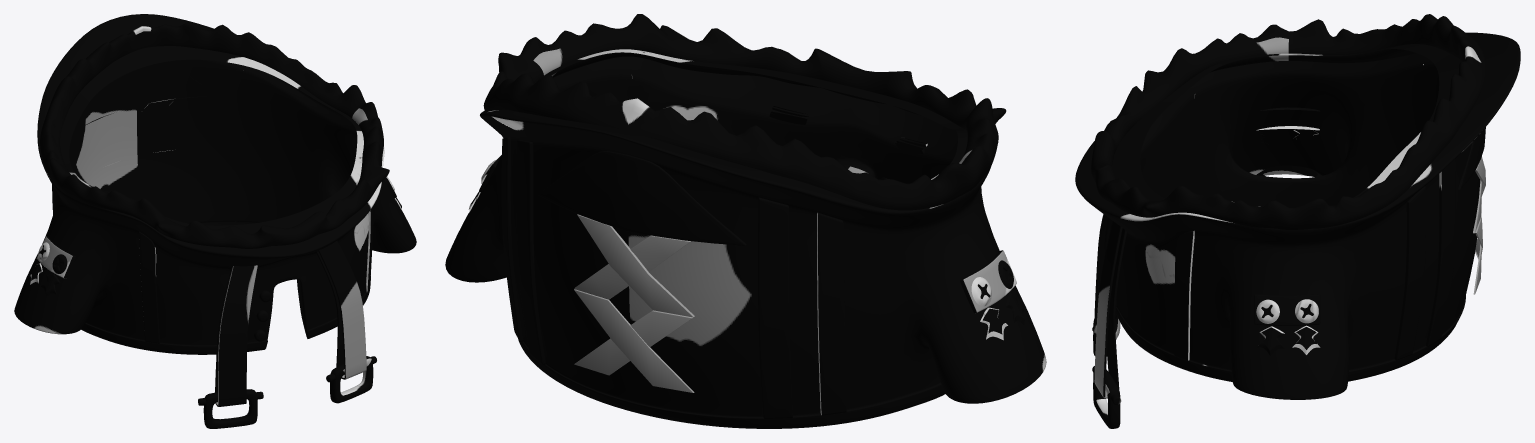
The model's file is Ropa_bangboo.obj.
3 renders of one model, left to right at view 1: azimuth 30°, elevation 25°; view 2: azimuth 150°, elevation 25°; view 3: azimuth 270°, elevation 25°, orthographic. The views are drawn at different scales.
Visible parts, largest first — view 1: coat_base2.001; view 2: coat_base2.001; view 3: coat_base2.001.
Boxes of the visible parts, x1,y1,x2,y2 form: coat_base2.001: (14, 14, 416, 428); coat_base2.001: (445, 14, 1046, 428); coat_base2.001: (1075, 14, 1520, 428).
Bounding box in the file's own units: 7.21 × 4.97 × 5.98.
